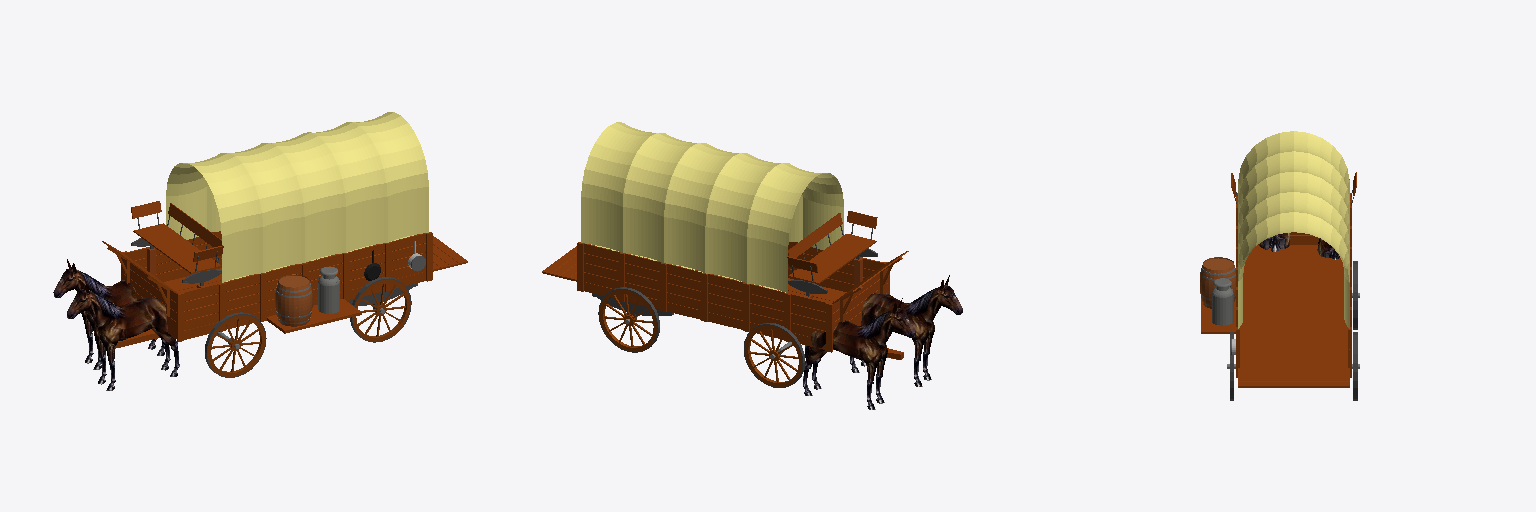
The picture shows the model from 3 angles: view 1: azimuth 30°, elevation 25°; view 2: azimuth 150°, elevation 25°; view 3: azimuth 270°, elevation 25°; orthographic projection.
Visible parts, largest first — view 1: Mesh56 Group22 Group8 Group1 skeCC1 carruaje1 Model, Mesh93 Component_34_2 Group8 Group1 skeCC1 carruaje1 Model, Mesh59 Group25 Group8 Group1 skeCC1 carruaje1 Model, Mesh67 Group32 Group8 Group1 skeCC1 carruaje1 Model, Mesh62 Group27 Group8 Group1 skeCC1 carruaje1 Model, Mesh49 Group15 Group8 Group1 skeCC1 carruaje1 Model, Mesh86 wheel4 Group8 Group1 skeCC1 carruaje1 Model, Mesh41 Group7 Group1 skeCC1 carruaje1 Model, Mesh70 wheel1 Group8 Group1 skeCC1 carruaje1 Model, Mesh19 body2 skp352_2 ske1A3_2 caballo2 Model, Mesh45 Group11 Group8 Group1 skeCC1 carruaje1 Model, Mesh73 Component_34_1 Group8 Group1 skeCC1 carruaje1 Model (+10 smaller); view 2: Mesh73 Component_34_1 Group8 Group1 skeCC1 carruaje1 Model, Mesh56 Group22 Group8 Group1 skeCC1 carruaje1 Model, Mesh59 Group25 Group8 Group1 skeCC1 carruaje1 Model, Mesh62 Group27 Group8 Group1 skeCC1 carruaje1 Model, Mesh49 Group15 Group8 Group1 skeCC1 carruaje1 Model, Mesh67 Group32 Group8 Group1 skeCC1 carruaje1 Model, Mesh72 wheel3 Group8 Group1 skeCC1 carruaje1 Model, Mesh45 Group11 Group8 Group1 skeCC1 carruaje1 Model, Mesh71 wheel2 Group8 Group1 skeCC1 carruaje1 Model, Mesh93 Component_34_2 Group8 Group1 skeCC1 carruaje1 Model, Mesh1 body1 skp352_1 ske1A3_1 caballo1 Model, Mesh85 Component_36_1 Group8 Group1 skeCC1 carruaje1 Model (+8 smaller); view 3: Mesh45 Group11 Group8 Group1 skeCC1 carruaje1 Model, Mesh62 Group27 Group8 Group1 skeCC1 carruaje1 Model, Mesh59 Group25 Group8 Group1 skeCC1 carruaje1 Model, Mesh56 Group22 Group8 Group1 skeCC1 carruaje1 Model, Mesh67 Group32 Group8 Group1 skeCC1 carruaje1 Model, Mesh49 Group15 Group8 Group1 skeCC1 carruaje1 Model, Mesh88 Component_36_2 Group8 Group1 skeCC1 carruaje1 Model, Mesh41 Group7 Group1 skeCC1 carruaje1 Model, Mesh39 Group5 Group2 Group1 skeCC1 carruaje1 Model, Mesh69 Group34 Group8 Group1 skeCC1 carruaje1 Model.
Part boxes in pixels (x1,y1,x2,y2): Mesh56 Group22 Group8 Group1 skeCC1 carruaje1 Model: (166,153,262,282); Mesh93 Component_34_2 Group8 Group1 skeCC1 carruaje1 Model: (179,232,429,329); Mesh59 Group25 Group8 Group1 skeCC1 carruaje1 Model: (207,143,304,272); Mesh67 Group32 Group8 Group1 skeCC1 carruaje1 Model: (311,122,387,252); Mesh62 Group27 Group8 Group1 skeCC1 carruaje1 Model: (353,112,428,242); Mesh49 Group15 Group8 Group1 skeCC1 carruaje1 Model: (271,132,345,262); Mesh86 wheel4 Group8 Group1 skeCC1 carruaje1 Model: (205,312,266,377); Mesh41 Group7 Group1 skeCC1 carruaje1 Model: (275,274,312,326); Mesh70 wheel1 Group8 Group1 skeCC1 carruaje1 Model: (350,277,411,342); Mesh19 body2 skp352_2 ske1A3_2 caballo2 Model: (97,298,163,340); Mesh45 Group11 Group8 Group1 skeCC1 carruaje1 Model: (164,244,425,339); Mesh73 Component_34_1 Group8 Group1 skeCC1 carruaje1 Model: (124,231,221,281); Mesh73 Component_34_1 Group8 Group1 skeCC1 carruaje1 Model: (579,242,831,336); Mesh56 Group22 Group8 Group1 skeCC1 carruaje1 Model: (747,163,843,292); Mesh59 Group25 Group8 Group1 skeCC1 carruaje1 Model: (705,153,802,282); Mesh62 Group27 Group8 Group1 skeCC1 carruaje1 Model: (581,122,655,252); Mesh49 Group15 Group8 Group1 skeCC1 carruaje1 Model: (664,143,738,272); Mesh67 Group32 Group8 Group1 skeCC1 carruaje1 Model: (623,133,696,262); Mesh72 wheel3 Group8 Group1 skeCC1 carruaje1 Model: (744,323,804,387); Mesh45 Group11 Group8 Group1 skeCC1 carruaje1 Model: (584,278,846,349); Mesh71 wheel2 Group8 Group1 skeCC1 carruaje1 Model: (598,287,659,352); Mesh93 Component_34_2 Group8 Group1 skeCC1 carruaje1 Model: (788,242,885,291); Mesh1 body1 skp352_1 ske1A3_1 caballo1 Model: (822,320,884,359); Mesh85 Component_36_1 Group8 Group1 skeCC1 carruaje1 Model: (833,268,887,331); Mesh45 Group11 Group8 Group1 skeCC1 carruaje1 Model: (1240,246,1347,366); Mesh62 Group27 Group8 Group1 skeCC1 carruaje1 Model: (1238,212,1349,328); Mesh59 Group25 Group8 Group1 skeCC1 carruaje1 Model: (1238,151,1349,220); Mesh56 Group22 Group8 Group1 skeCC1 carruaje1 Model: (1238,131,1349,200); Mesh67 Group32 Group8 Group1 skeCC1 carruaje1 Model: (1238,192,1349,260); Mesh49 Group15 Group8 Group1 skeCC1 carruaje1 Model: (1238,172,1349,240); Mesh88 Component_36_2 Group8 Group1 skeCC1 carruaje1 Model: (1238,368,1349,387); Mesh41 Group7 Group1 skeCC1 carruaje1 Model: (1200,257,1235,308); Mesh39 Group5 Group2 Group1 skeCC1 carruaje1 Model: (1212,278,1233,325); Mesh69 Group34 Group8 Group1 skeCC1 carruaje1 Model: (1201,299,1235,333).
Bounding box in the file's own units: 316 × 155 × 115.
Materials: 15 (1 with a texture image).